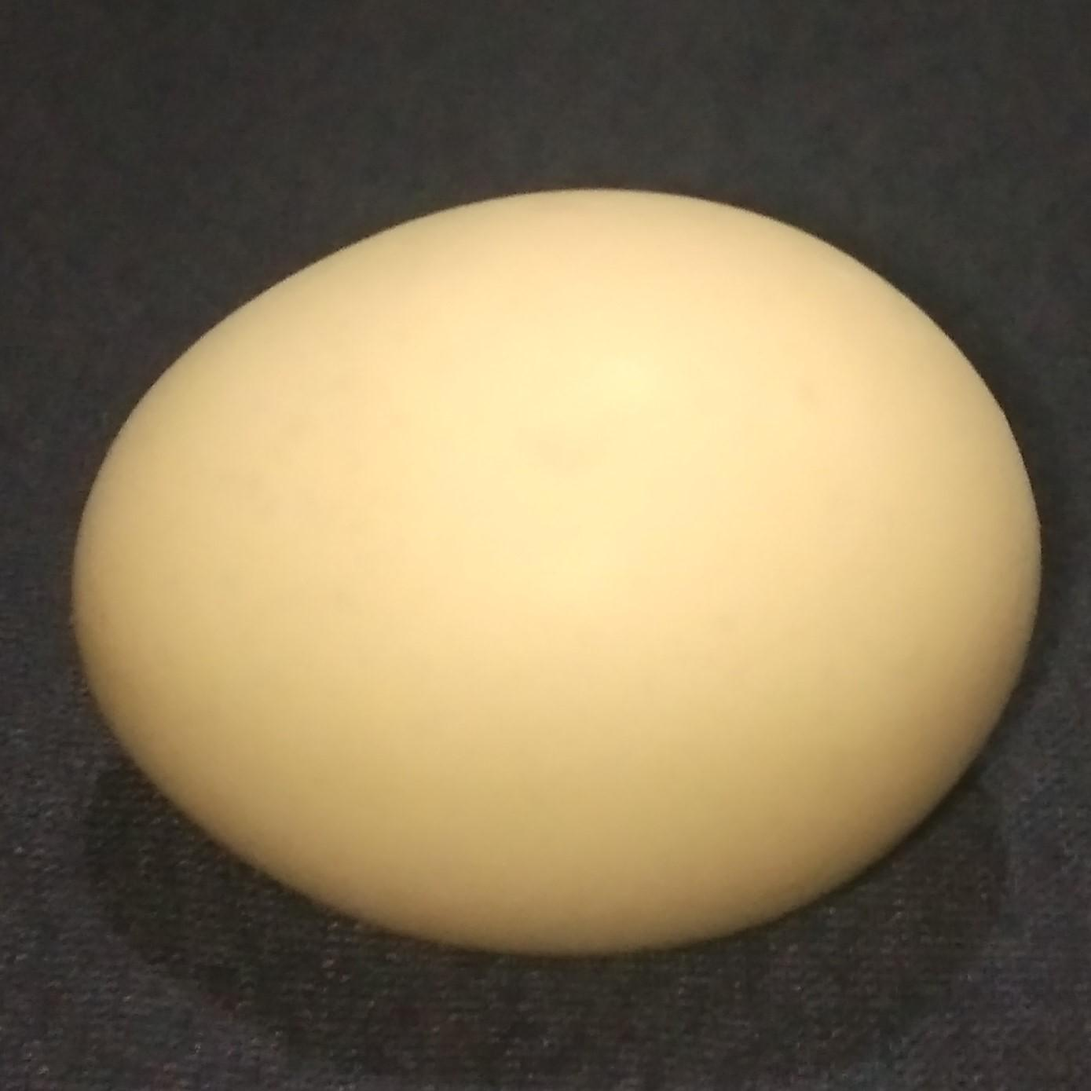egg: (76, 190, 1044, 961)
